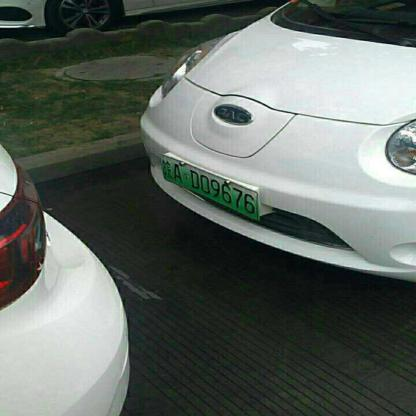lp: (158, 154, 260, 220)
